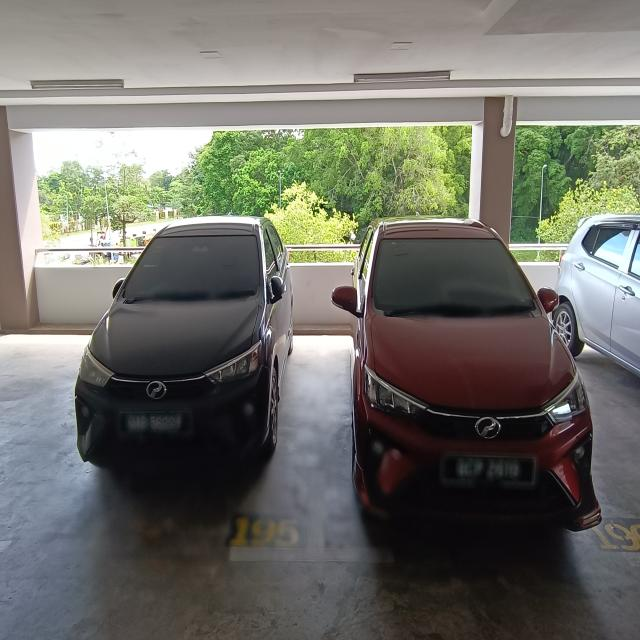PeroduaBezza: (327, 214, 608, 540), (69, 215, 305, 474)
